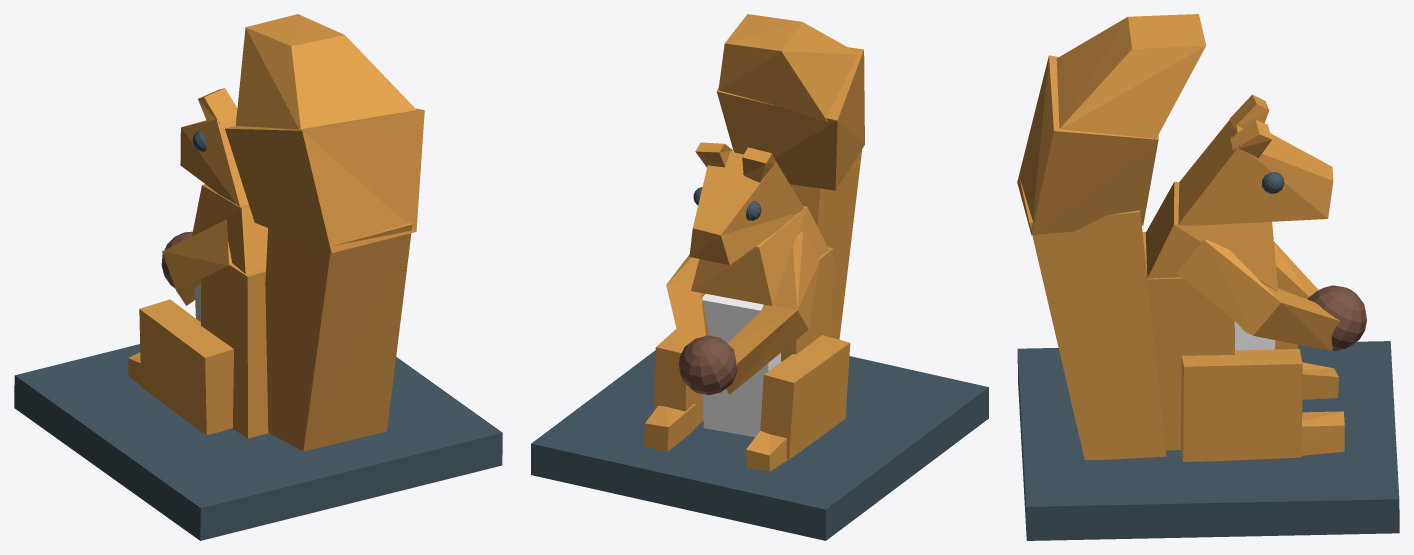
The model's file is Lowpoly Squirrel.glb.
3 renders of one model, left to right at view 1: azimuth 30°, elevation 25°; view 2: azimuth 150°, elevation 25°; view 3: azimuth 270°, elevation 25°, orthographic. The views are drawn at different scales.
Visible parts, largest first — view 1: group688309277, group889815227, group1790660238, group526953991, group2143017428, group627350762, group1383856745, group1343086275, group61398292, group556672505; view 2: group688309277, group526953991, group1790660238, group1383856745, group2143017428, group1343086275, group559481871, group889815227, group1594031592, group962397655, group61398292, group1444589480 (+6 smaller); view 3: group688309277, group889815227, group526953991, group1790660238, group1444589480, group1383856745, group627350762, group1343086275, group327002723, group192210033, group962397655, group1165151767 (+5 smaller).
Boxes of the visible parts, <box> form: group688309277: <box>14,344,502,540</box>; group889815227: <box>265,223,412,451</box>; group1790660238: <box>225,108,424,253</box>; group526953991: <box>235,14,416,129</box>; group2143017428: <box>139,299,233,434</box>; group627350762: <box>201,263,268,438</box>; group1383856745: <box>180,117,248,206</box>; group1343086275: <box>192,184,267,284</box>; group61398292: <box>162,219,231,290</box>; group556672505: <box>198,88,237,124</box>; group688309277: <box>531,350,988,540</box>; group526953991: <box>718,14,858,123</box>; group1790660238: <box>716,47,864,190</box>; group1383856745: <box>689,151,804,265</box>; group2143017428: <box>760,335,850,459</box>; group1343086275: <box>691,205,832,305</box>; group559481871: <box>702,294,780,437</box>; group889815227: <box>790,149,862,339</box>; group1594031592: <box>726,305,808,394</box>; group962397655: <box>678,335,737,395</box>; group61398292: <box>761,231,819,328</box>; group1444589480: <box>654,329,703,427</box>; group688309277: <box>1017,341,1399,540</box>; group889815227: <box>1019,177,1166,460</box>; group526953991: <box>1056,14,1206,138</box>; group1790660238: <box>1017,55,1158,235</box>; group1444589480: <box>1181,349,1302,461</box>; group1383856745: <box>1178,119,1333,225</box>; group627350762: <box>1142,232,1234,450</box>; group1343086275: <box>1145,181,1278,291</box>; group327002723: <box>1176,239,1281,335</box>; group192210033: <box>1253,284,1340,350</box>; group962397655: <box>1308,285,1366,351</box>; group1165151767: <box>1302,411,1344,455</box>.
Size of the model in its own units: 0.7999 by 1.03 by 0.8102.
